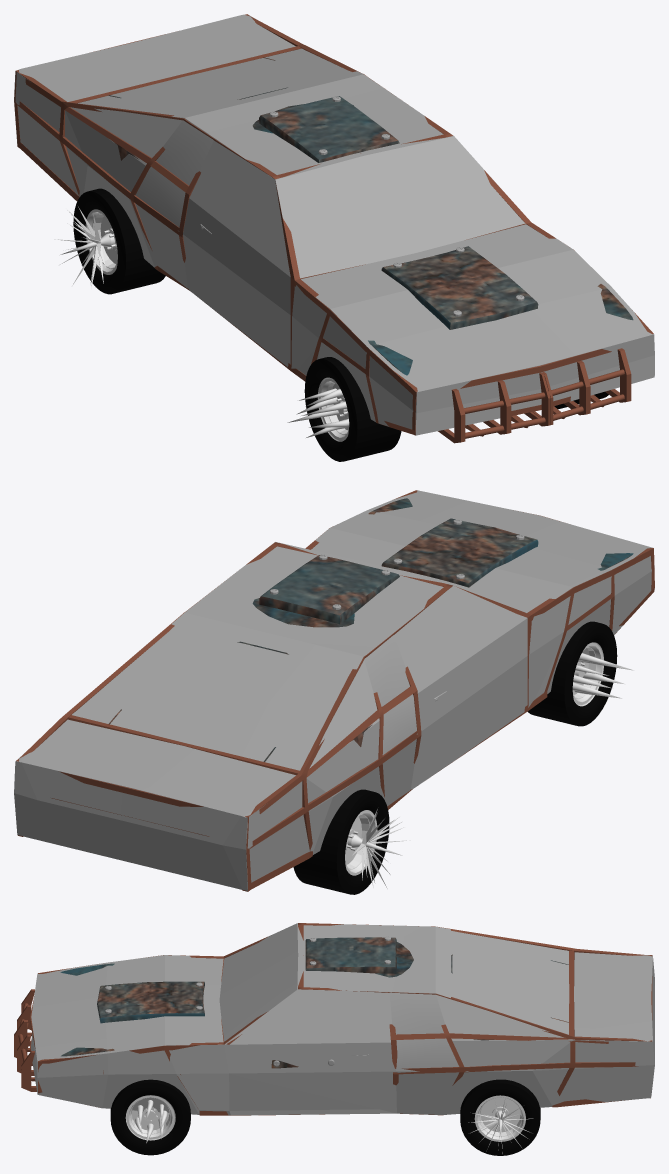
File: Charger Body.fbx
The picture shows the model from 3 angles, top to bottom: view 1: azimuth 30°, elevation 25°; view 2: azimuth 150°, elevation 25°; view 3: azimuth 270°, elevation 25°; orthographic projection. The views are drawn at different scales.
Parts seen in each view (by area): view 1: Body_Colider1, Charger, Front_right_Wheel, Back_Right_Wheel; view 2: Body_Colider1, Charger, Back_Right_Wheel, Front_right_Wheel; view 3: Body_Colider1, Charger, Body_Colider, Back_Left_Wheel, Front_Left_Wheel.
Boxes of the visible parts, x1,y1,x2,y2 form: Body_Colider1: (14,14,654,435); Charger: (14,14,653,443); Front_right_Wheel: (287,357,401,461); Back_Right_Wheel: (54,188,165,294); Body_Colider1: (14,490,654,890); Charger: (16,490,654,891); Back_Right_Wheel: (293,789,410,894); Front_right_Wheel: (527,621,633,726); Body_Colider1: (31,923,654,1114); Charger: (14,923,652,1115); Body_Colider: (176,1073,395,1115); Back_Left_Wheel: (460,1079,540,1155); Front_Left_Wheel: (110,1079,190,1155).
Bounding box in the file's own units: 2.51 × 1.44 × 5.31.
